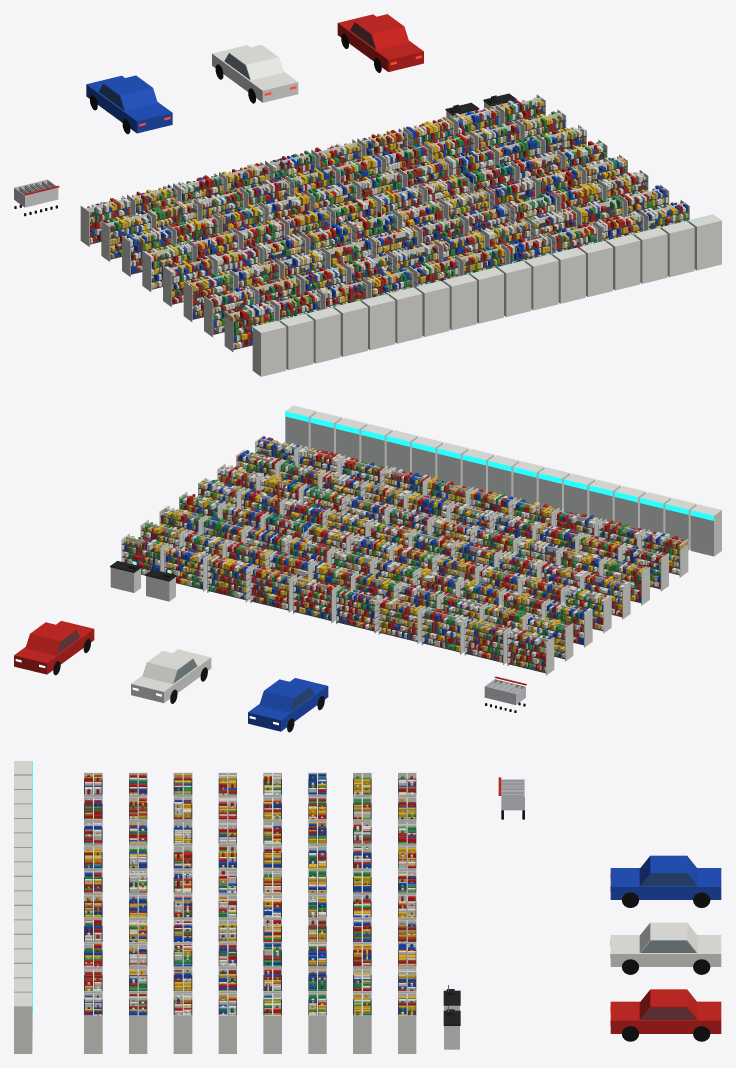
Rendered from i_supermarket.gltf.
3 renders of one model, top to bottom at view 1: azimuth 30°, elevation 25°; view 2: azimuth 150°, elevation 25°; view 3: azimuth 270°, elevation 25°, orthographic. The views are drawn at different scales.
Visible parts, largest first — view 1: I_supermarket; view 2: I_supermarket; view 3: I_supermarket.
Boxes of the visible parts, bbox=[...] form: I_supermarket: bbox=[14, 14, 721, 376]; I_supermarket: bbox=[14, 405, 721, 732]; I_supermarket: bbox=[14, 761, 721, 1053].
Bounding box in the file's own units: 22.61 × 2 × 26.85.
Materials: 18 (1 with a texture image).
